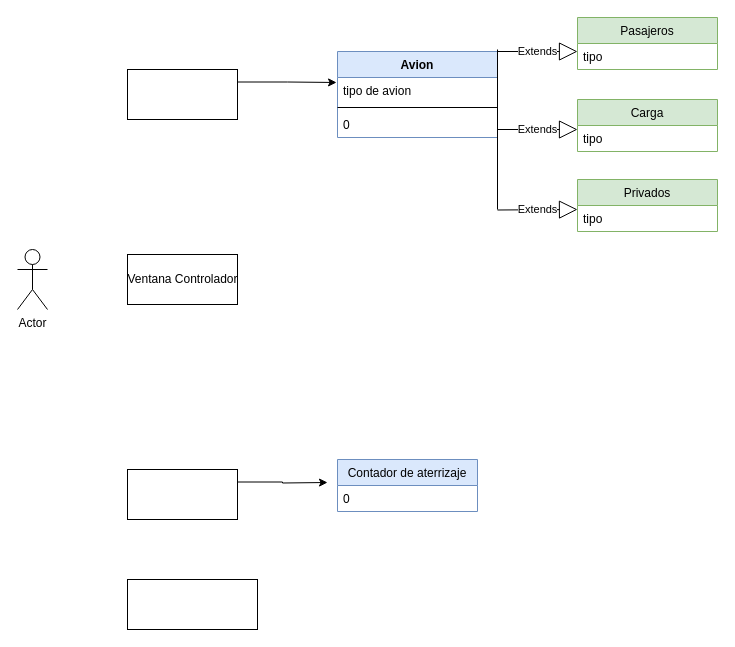
The diagram is 735 pixels wide and 647 high, and some of its shapes have lost their labels. Here are the shapes that lost their labels. From the top down, the centre of each, then its label:
(182,94): Vuelos
(182,494): Controlador
(192,604): Ventana de Información
